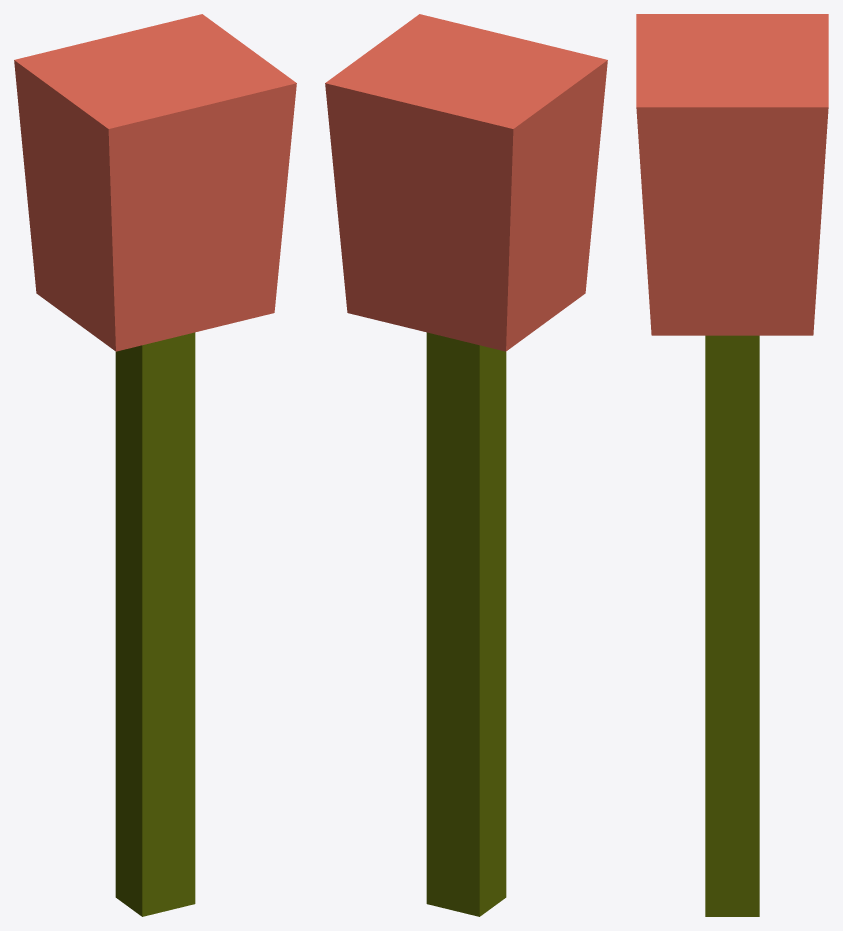
The model's file is CityFlower_05.fbx.
The picture shows the model from 3 angles, left to right: view 1: azimuth 30°, elevation 25°; view 2: azimuth 150°, elevation 25°; view 3: azimuth 270°, elevation 25°; orthographic projection.
Visible parts, largest first — view 1: CityFlower_05; view 2: CityFlower_05; view 3: CityFlower_05.
Part boxes in pixels (box(x1,y1,x2,y2)): CityFlower_05: box(14, 14, 296, 916); CityFlower_05: box(325, 14, 607, 916); CityFlower_05: box(636, 14, 828, 916).
Bounding box in the file's own units: 0.0199 × 0.0838 × 0.0173.
